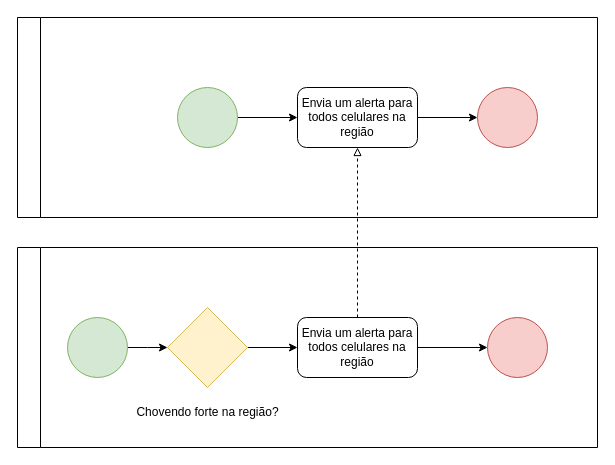
The diagram is 615 pixels wide and 465 high, and some of its shapes have lost their labels. Each missing label, with the box of its shape:
Cidadão: (16, 16, 598, 218)
Sistema Governo: (16, 246, 598, 448)
